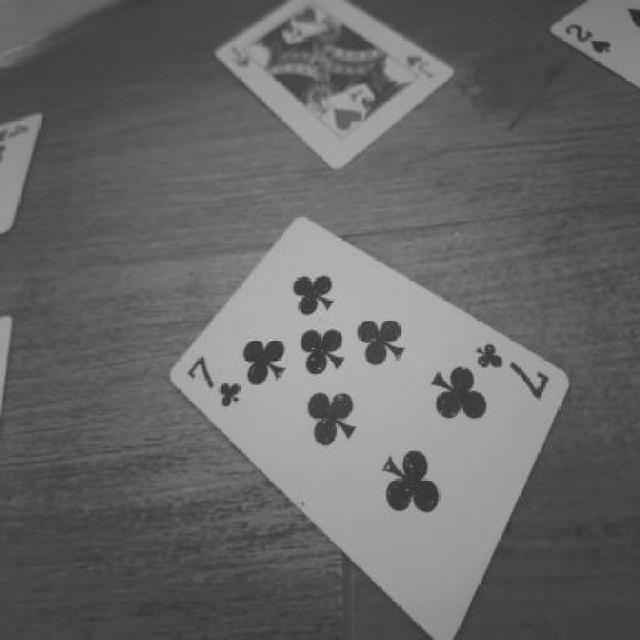7C: (469, 335, 562, 403), (178, 350, 251, 424)
JS: (399, 34, 447, 100)
